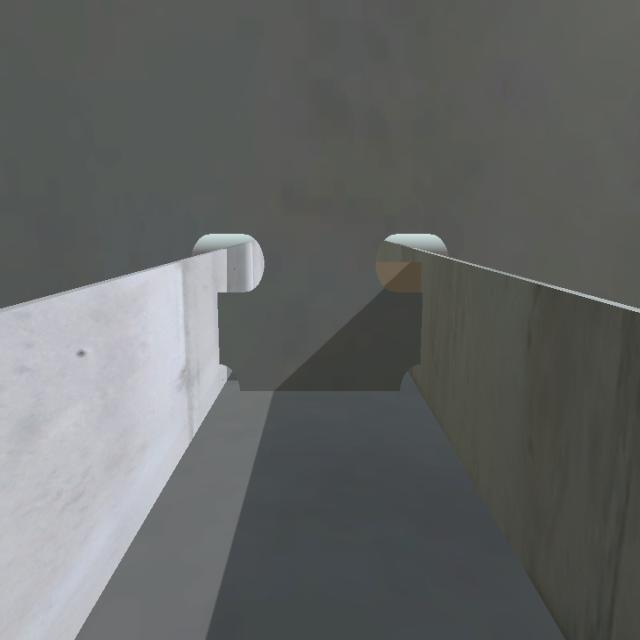fillet_hole: (397, 360, 424, 397), (216, 364, 243, 396)
fillet_yong_jeop_jang: (239, 379, 405, 398)
longi_yong_jeop_jang: (413, 258, 425, 364), (211, 290, 225, 365)
plate_behind: (371, 256, 426, 296)
